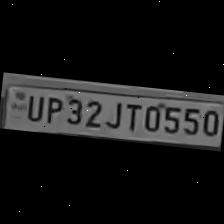0: (139, 101, 162, 133), (199, 106, 222, 137)
2: (82, 96, 104, 128)
3: (62, 93, 84, 126)
5: (159, 102, 182, 134), (180, 104, 201, 136)
J: (102, 97, 124, 130)
P: (41, 92, 63, 125)
T: (120, 100, 143, 132)
U: (23, 91, 45, 123)
